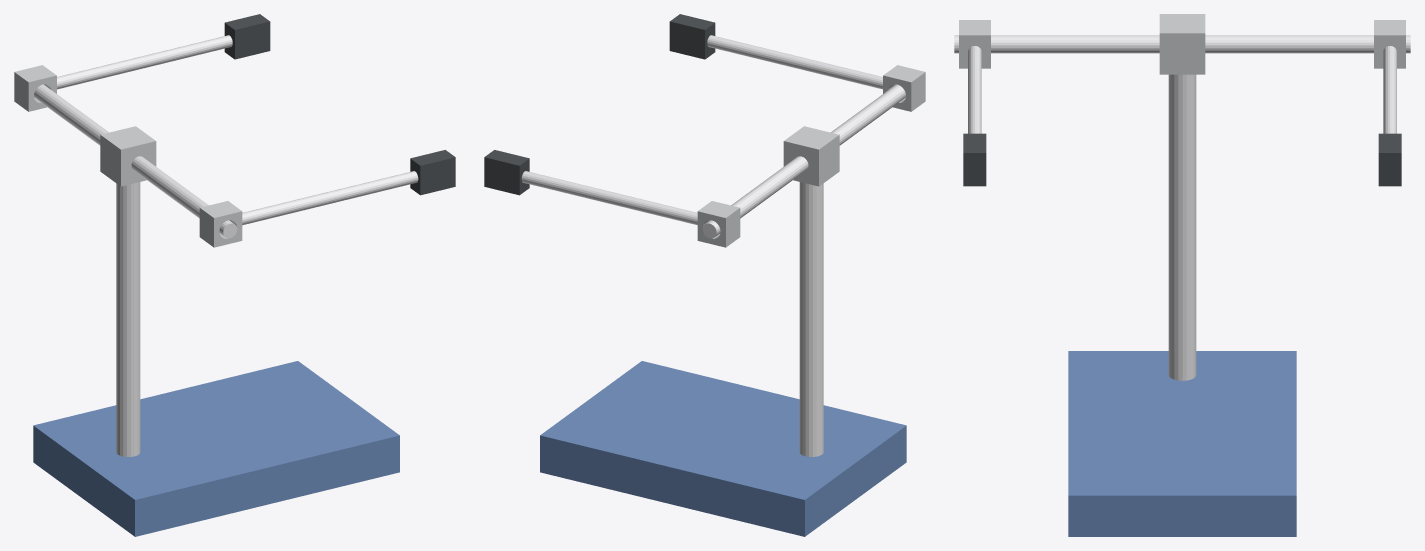
File: holder-workpiece.glb
3 renders of one model, left to right at view 1: azimuth 30°, elevation 25°; view 2: azimuth 150°, elevation 25°; view 3: azimuth 270°, elevation 25°, orthographic. The views are drawn at different scales.
Visible parts, largest first — view 1: body, arm-left, arm-right; view 2: body, arm-right, arm-left; view 3: body, arm-left, arm-right.
Boxes of the visible parts, x1,y1,x2,y2 form: body: (33,84,399,536); arm-left: (199,150,455,247); arm-right: (14,14,270,111); body: (540,84,906,536); arm-right: (484,150,740,247); arm-left: (669,14,925,111); body: (954,14,1410,536); arm-left: (959,20,990,186); arm-right: (1374,20,1405,186).
Size of what is drawn, in the model's own units: 0.155 by 0.19 by 0.2.
